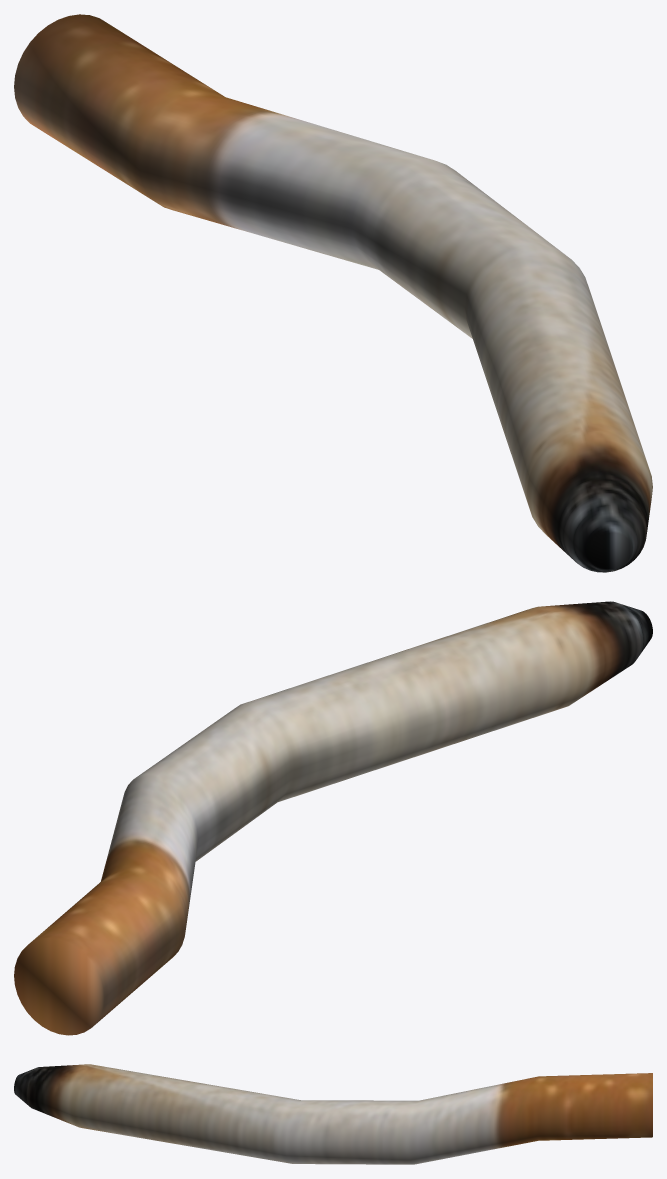
The model's file is CIGARETTE 2.fbx.
3 views of the same model, one above another, from view 1: azimuth 30°, elevation 25°; view 2: azimuth 150°, elevation 25°; view 3: azimuth 270°, elevation 25° (orthographic). The views are drawn at different scales.
Visible parts, largest first — view 1: CIGARETTE 2; view 2: CIGARETTE 2; view 3: CIGARETTE 2.
Part boxes in pixels (box(x1,y1,x2,y2)): CIGARETTE 2: box(14, 14, 652, 572); CIGARETTE 2: box(14, 601, 652, 1035); CIGARETTE 2: box(14, 1064, 652, 1164).
Size of the model in its own units: 0.0307 by 0.0126 by 0.1247.
